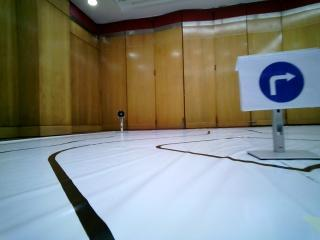right: (241, 57, 320, 106)
